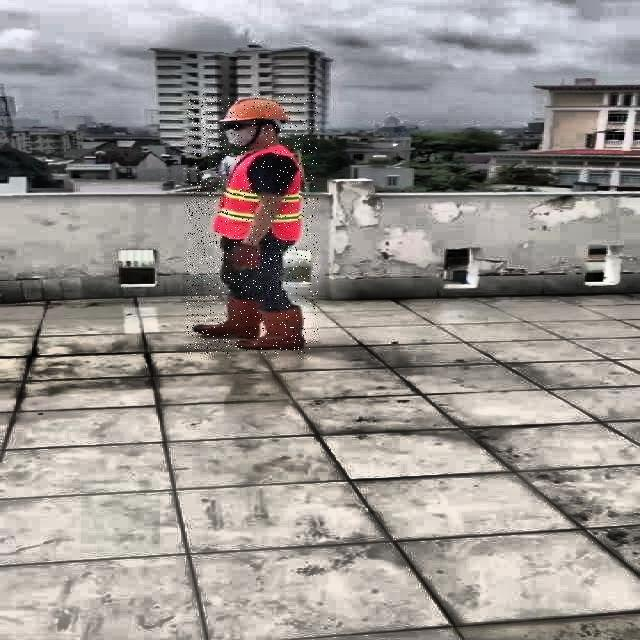safety_helmet: (218, 98, 290, 122)
safety_jacket: (216, 153, 308, 240)
